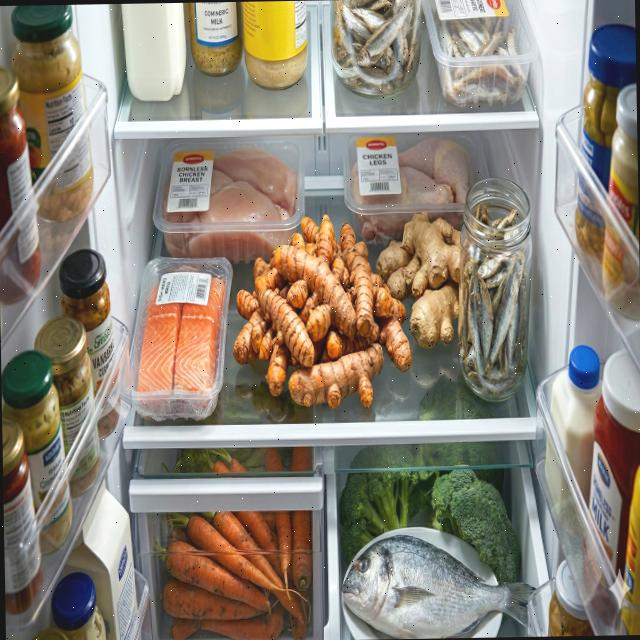anchovies: (458, 204, 529, 400), (431, 7, 527, 108), (330, 0, 422, 98)
brocolli: (430, 464, 519, 586), (338, 442, 421, 562)
carrot: (158, 447, 314, 640)
chicken: (162, 144, 300, 268), (349, 135, 475, 248)
fish: (341, 530, 537, 639), (135, 270, 227, 412)
ginger: (376, 213, 464, 352)
turmeric: (231, 211, 412, 411)
